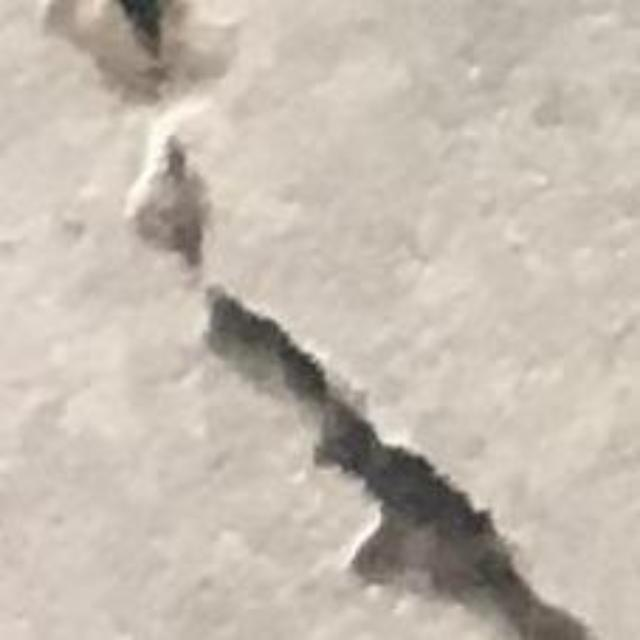crack: (206, 285, 592, 639)
